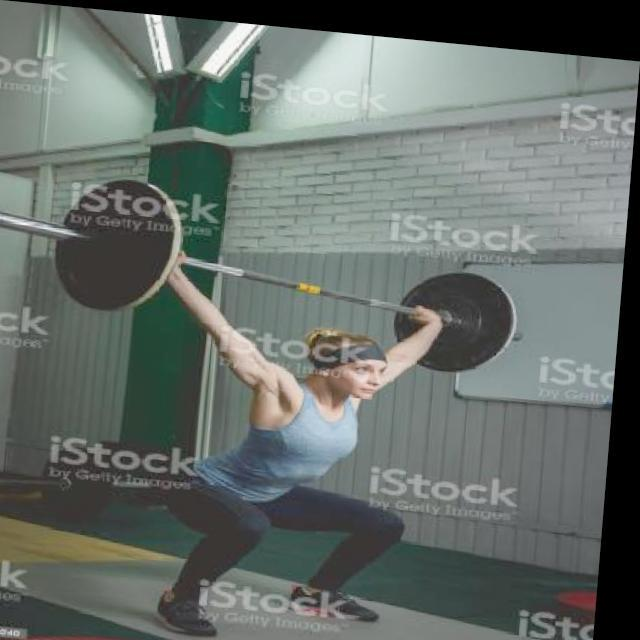barbell: (1, 166, 185, 315)
